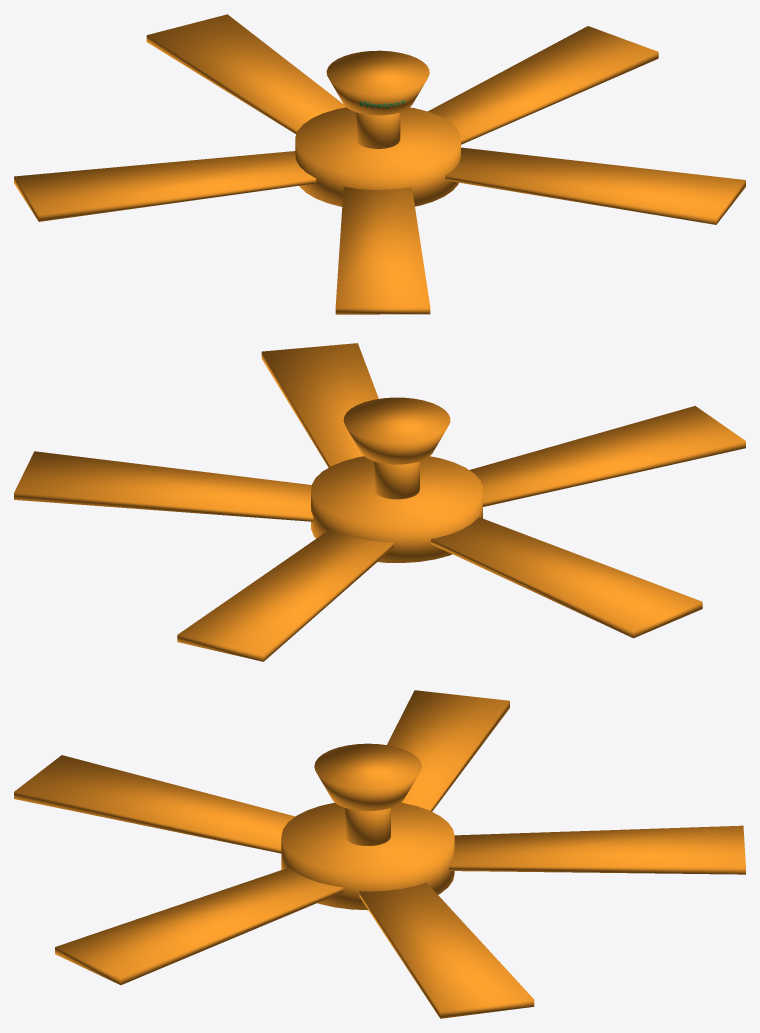
File: ceiling_fan.glb
The picture shows the model from 3 angles, top to bottom: view 1: azimuth 30°, elevation 25°; view 2: azimuth 150°, elevation 25°; view 3: azimuth 270°, elevation 25°; orthographic projection. The views are drawn at different scales.
Parts seen in each view (by area): view 1: FAN; view 2: FAN; view 3: FAN.
Boxes of the visible parts, x1,y1,x2,y2 form: FAN: (14,14,745,314); FAN: (14,343,745,661); FAN: (14,690,745,1018).
Size of the model in its own units: 2.91 by 0.4525 by 2.8.
Materials: 1 (1 with a texture image).
